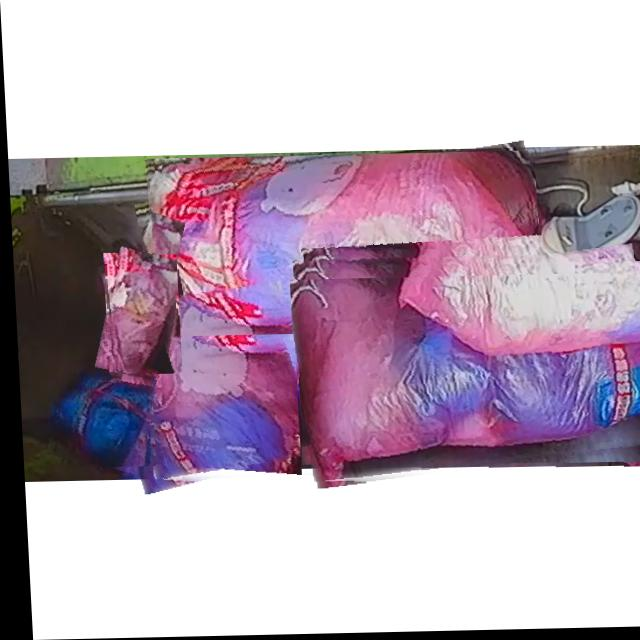other_trashbag: (149, 155, 537, 358), (288, 280, 640, 485), (142, 338, 296, 483), (53, 375, 147, 467), (105, 257, 174, 374)
